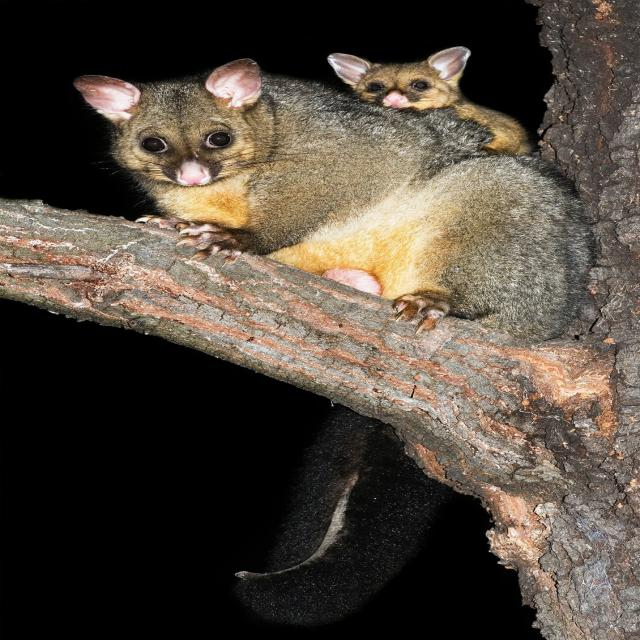possum: (79, 61, 592, 340), (329, 47, 529, 154)
